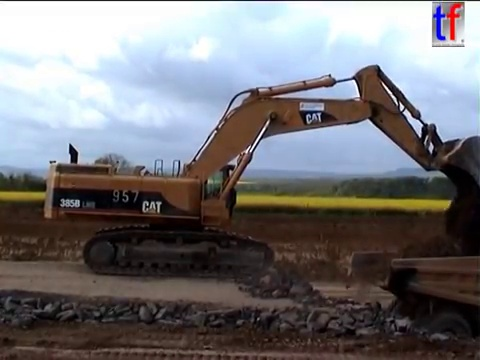excavator: (40, 62, 480, 282)
truck: (344, 244, 480, 360)
